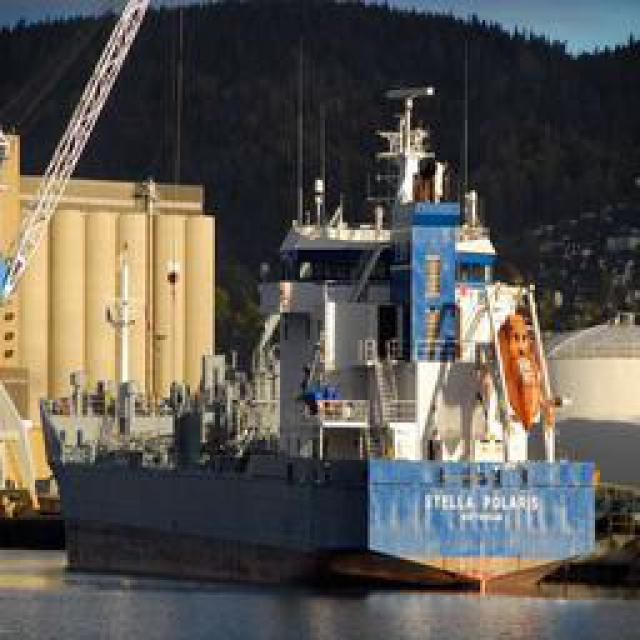Ship: (42, 76, 619, 603)
